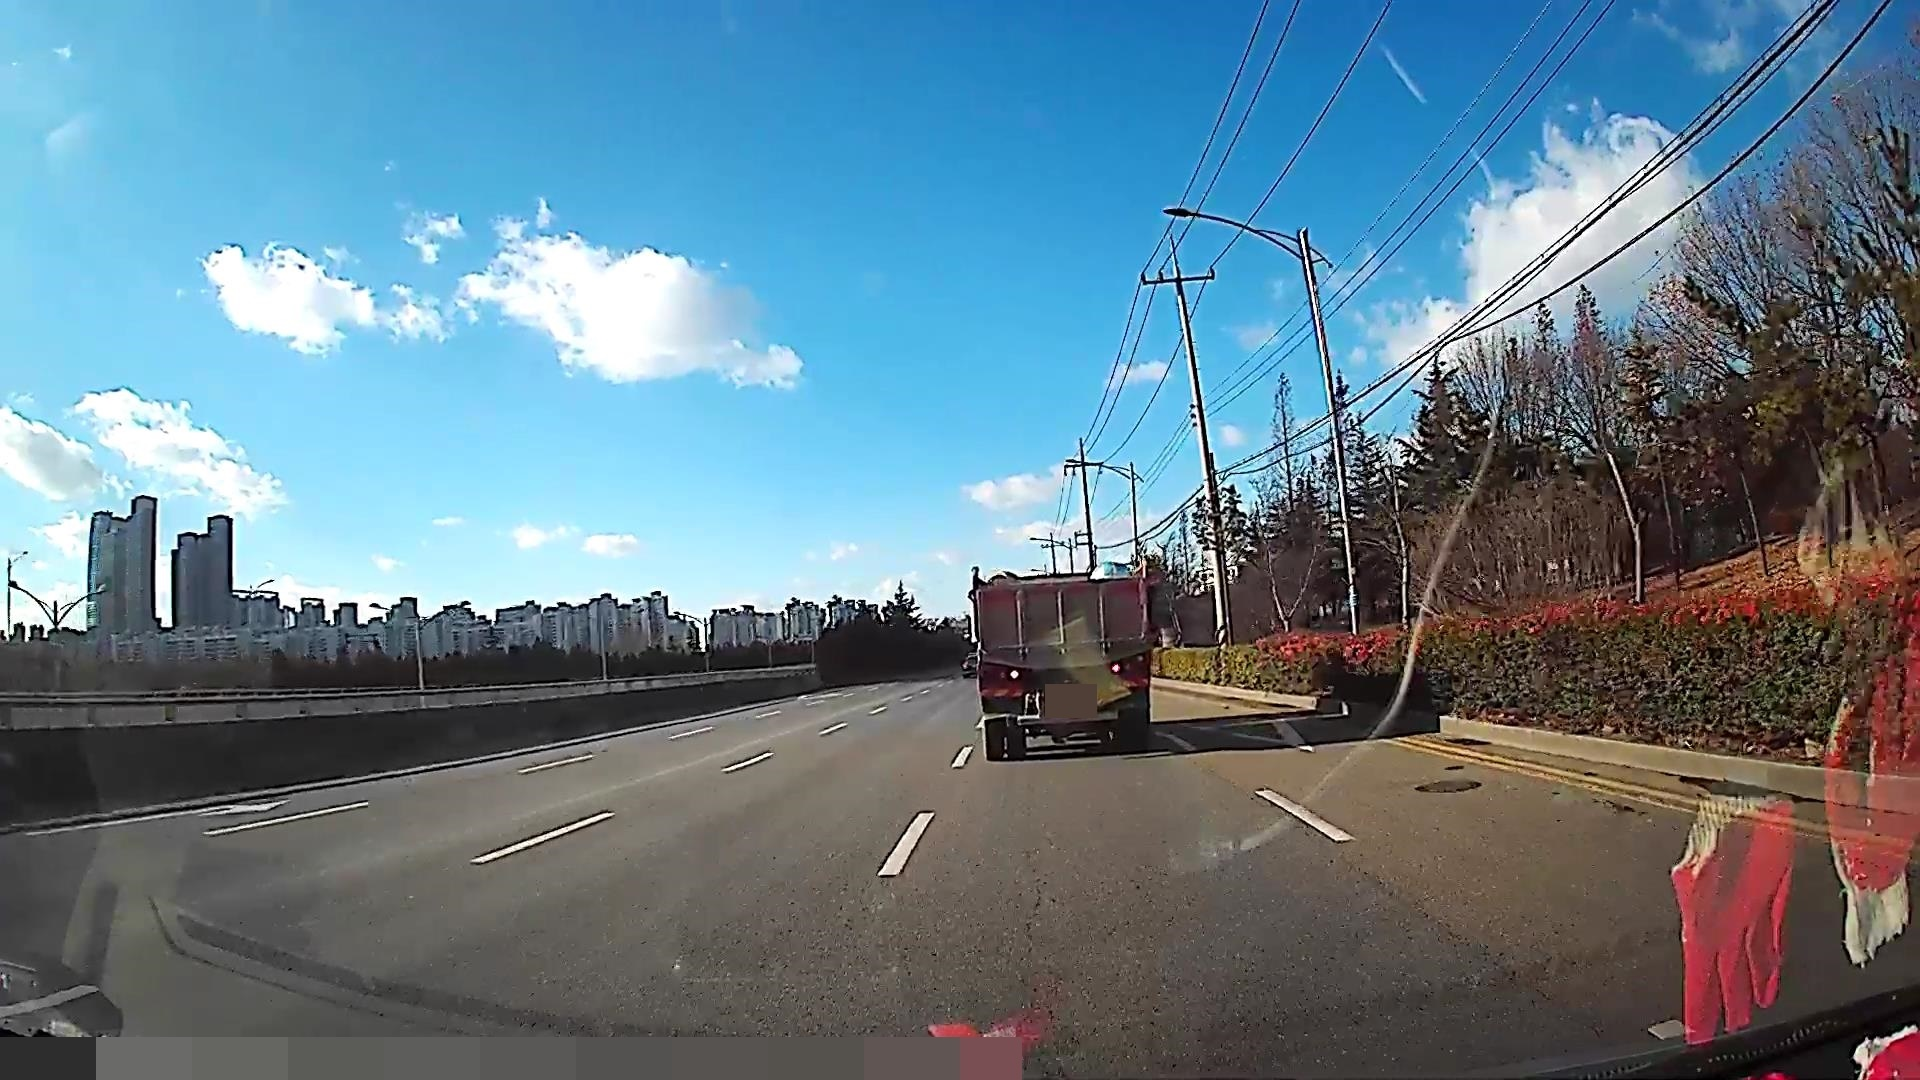불법차량: (967, 558, 1156, 761)
